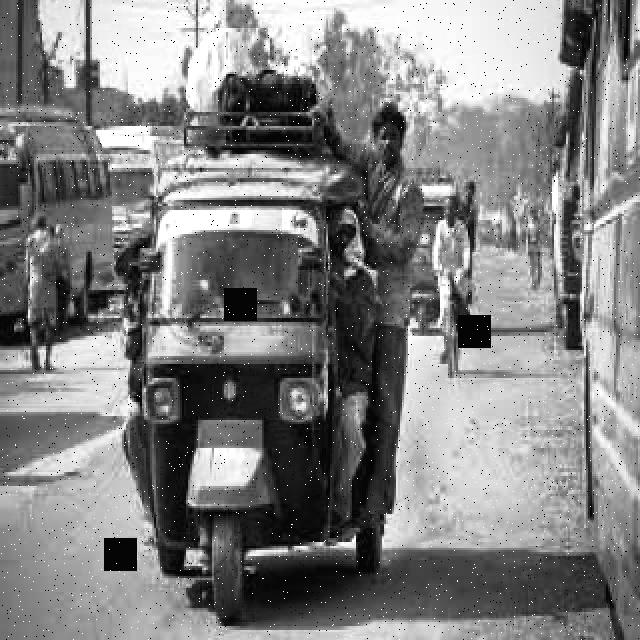Auto-Rickshaw: (118, 142, 384, 636)
